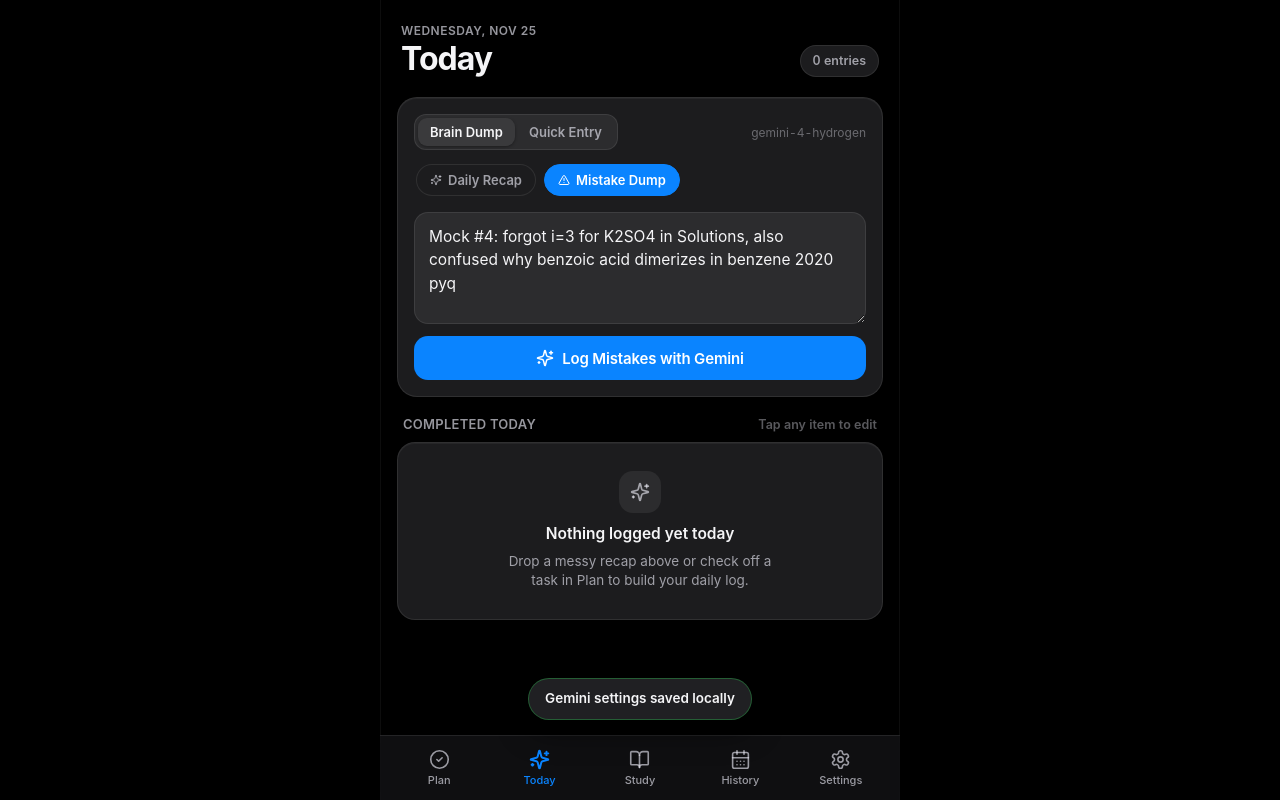
Scenario: Study Hub, NCERT Chapters, PYQs & Doubts end-to-end flows › extracts mistakes from Today Mistake Dump, tracks repeats/filters, and generates per-chapter revision summaries for Mistakes & Doubts
Earlier steps of the test are not shown.
Later steps or results of the test are not shown.
What coordinates should you click on to do the following:
click the button "Log Mistakes with Gemini"
I would click on:
 (640, 358)
Its box is [414,336,866,380].
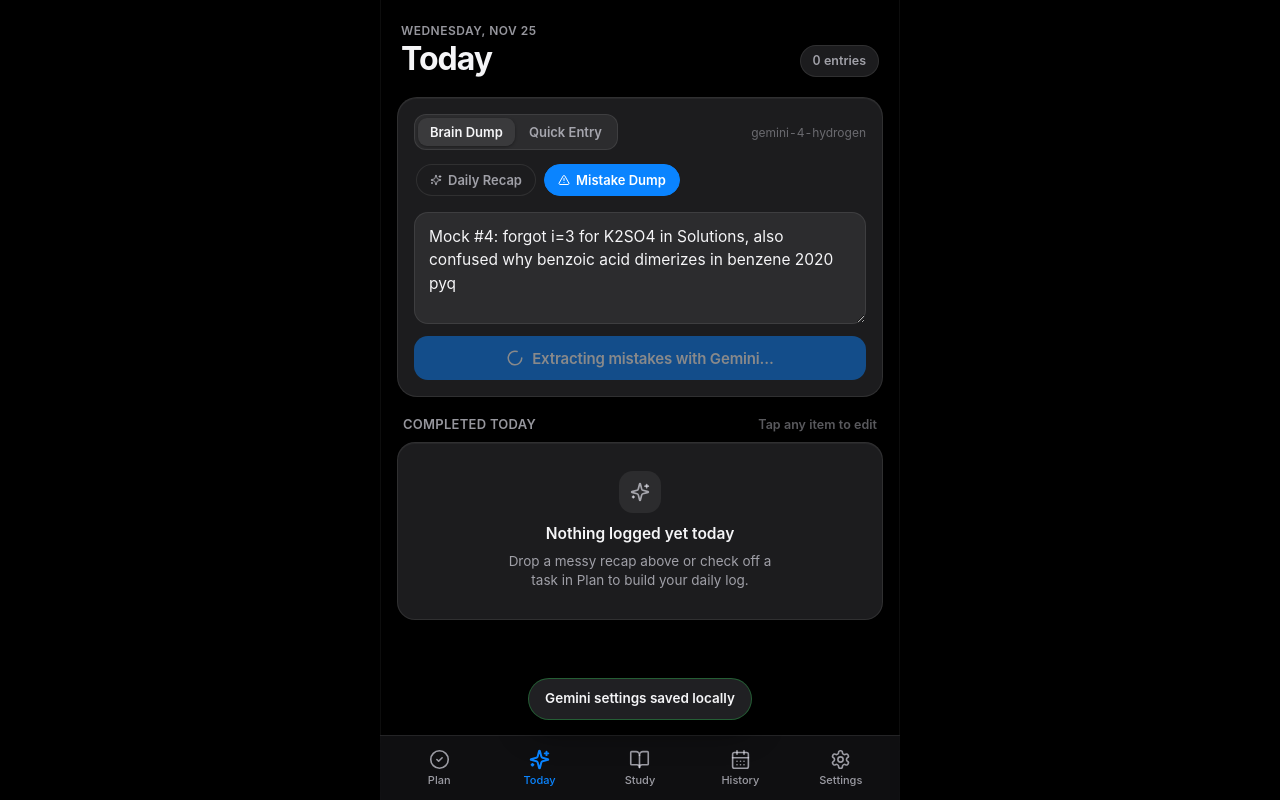
Note: Switch to By Chapter summary view and open Chapter Summary sheet
What coordinates should you click on to do the following:
click the button "Study"
I would click on:
 (640, 768)
Its box is [591,744,689,792].
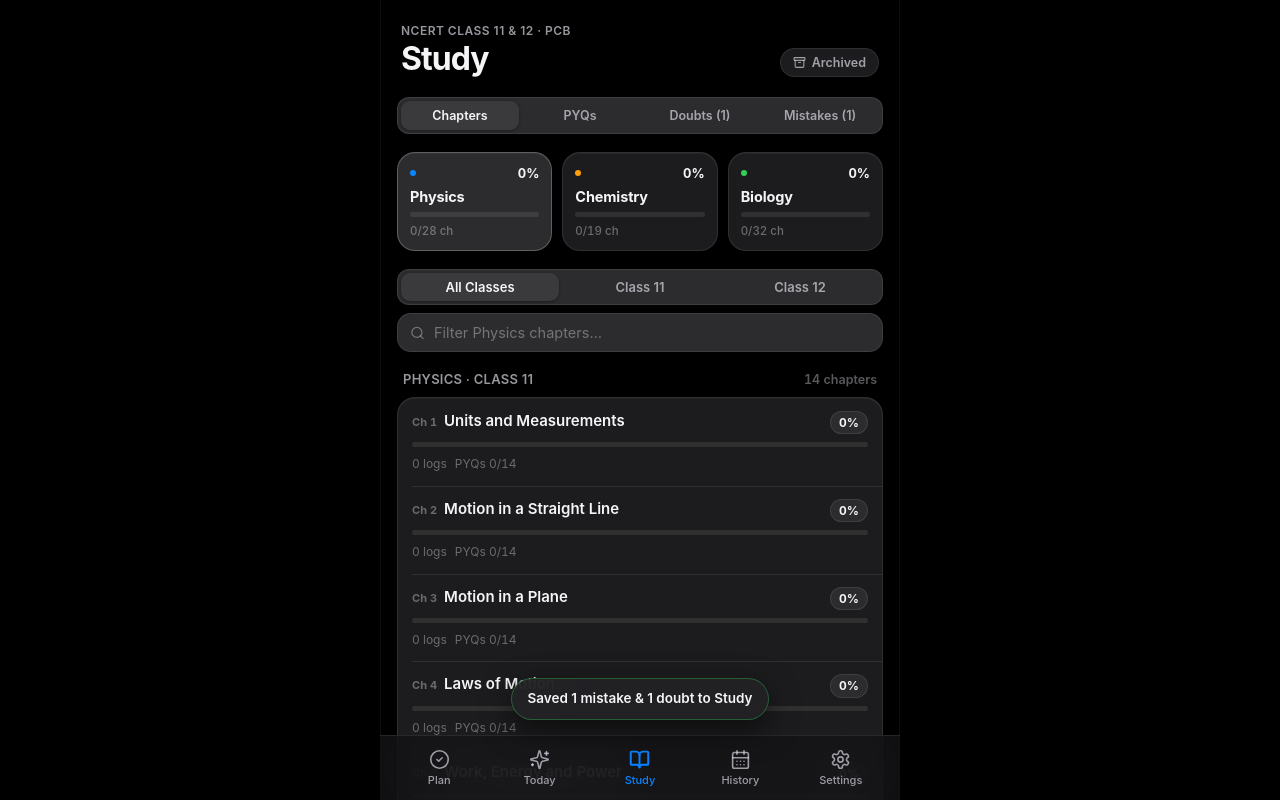
What coordinates should you click on to do the following:
click the tab "Mistakes (1)"
I would click on:
 (820, 116)
Its box is [761,101,879,130].
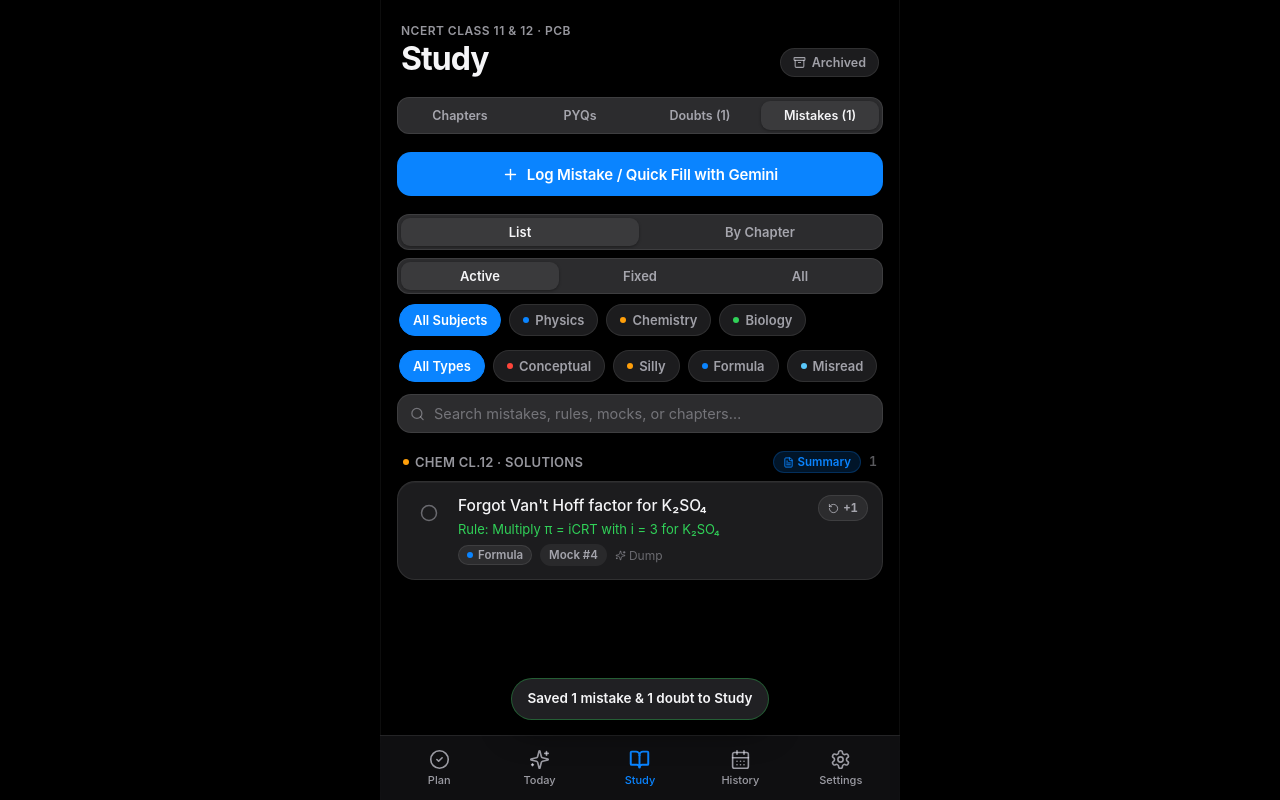
Check: the text "Forgot Van't Hoff factor for K₂SO₄" is shown, box [458,496,707,515]
Check: the text "Mock #4" is shown, box [540,544,607,566]
Note: Generate Gemini Revision Summary for Mistakes
What coordinates should you click on to do the following:
click the button named "Log repeat for \"Forgot Van't Hoff factor for K₂SO₄\""
I would click on:
 (843, 508)
Its box is [818,495,868,521].
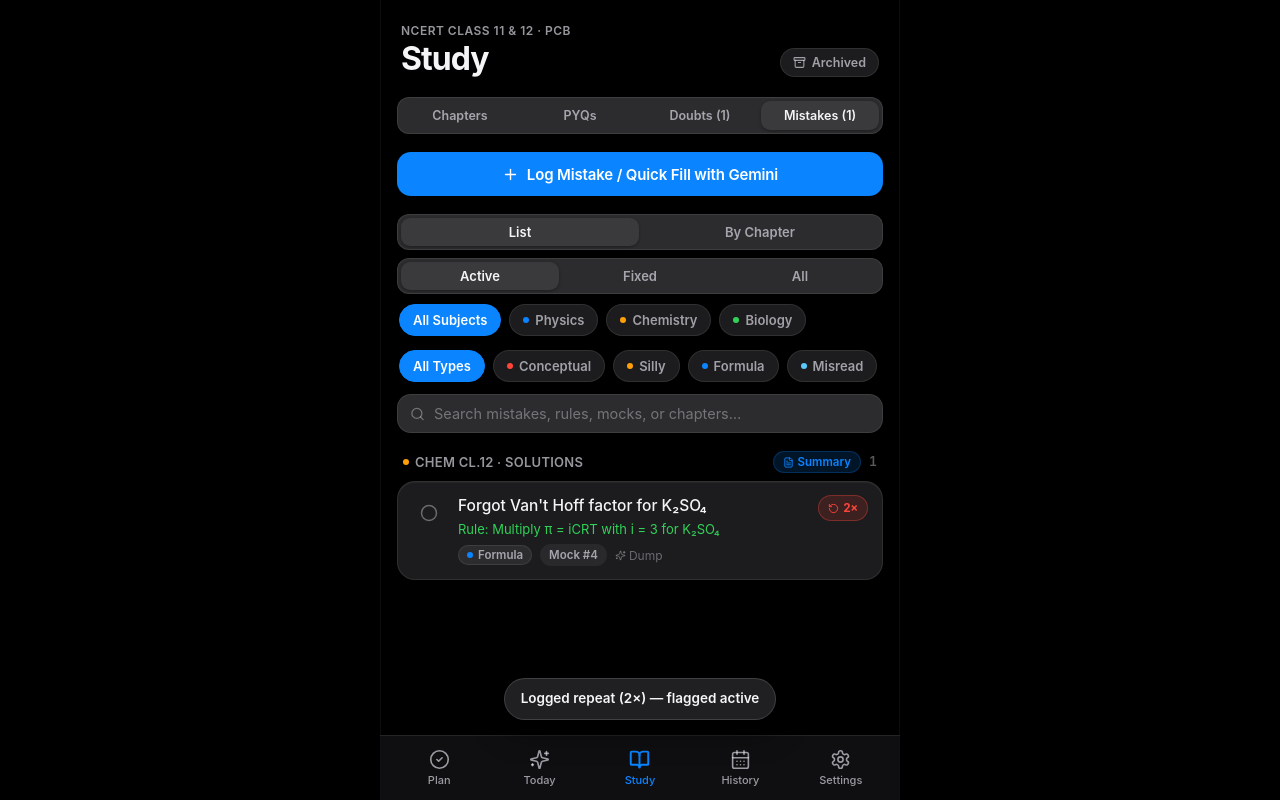
Check: the text "2×" is shown, box [843,501,858,515]
Note: Switch scope inside Chapter Summary Sheet to Doubts and generate Doubts summary
What coordinates should you click on to do the following:
click the tab "By Chapter"
I would click on:
 (760, 232)
Its box is [641,218,879,246].
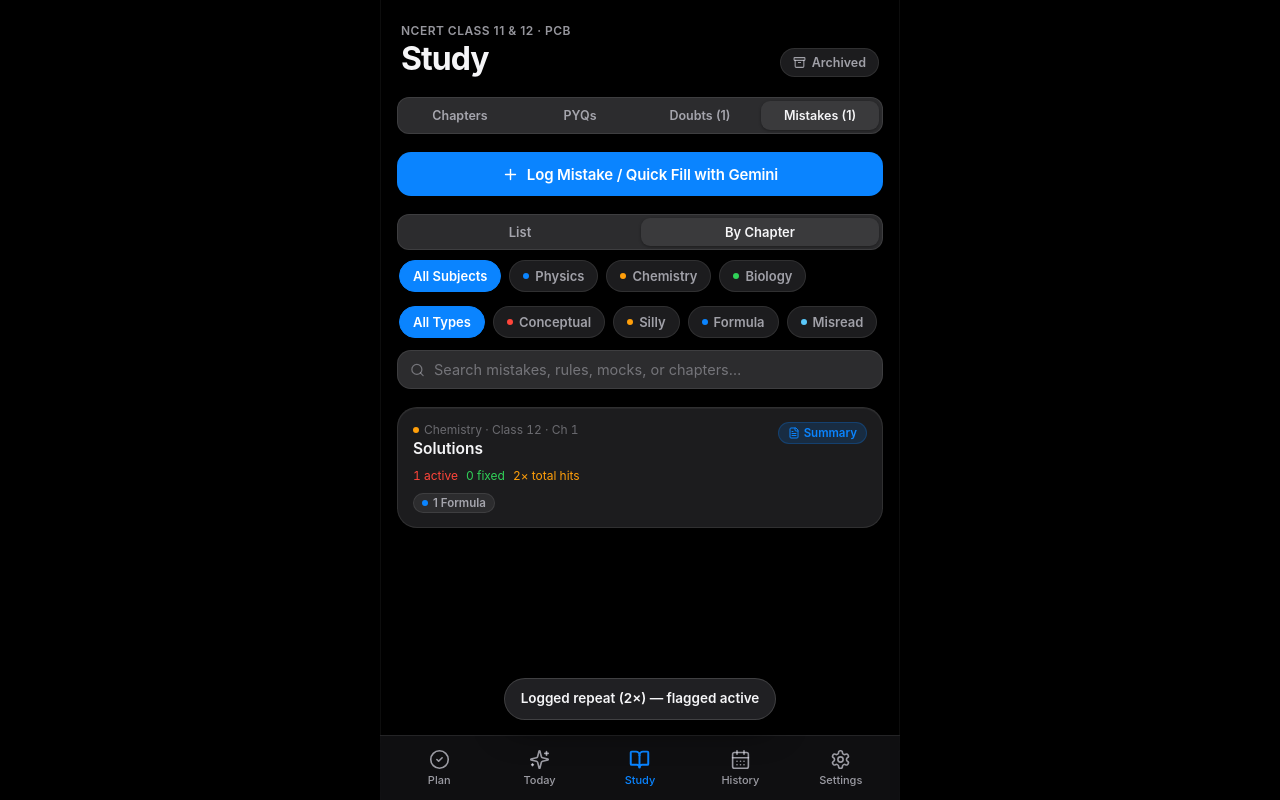
Check: the text "Solutions" is shown, box [413,439,483,458]
Check: the text "2× total hits" is shown, box [513,468,580,483]
What coordinates should you click on to do the following:
click the button "Solutions"
I would click on:
 (453, 430)
Its box is [397,407,883,528].
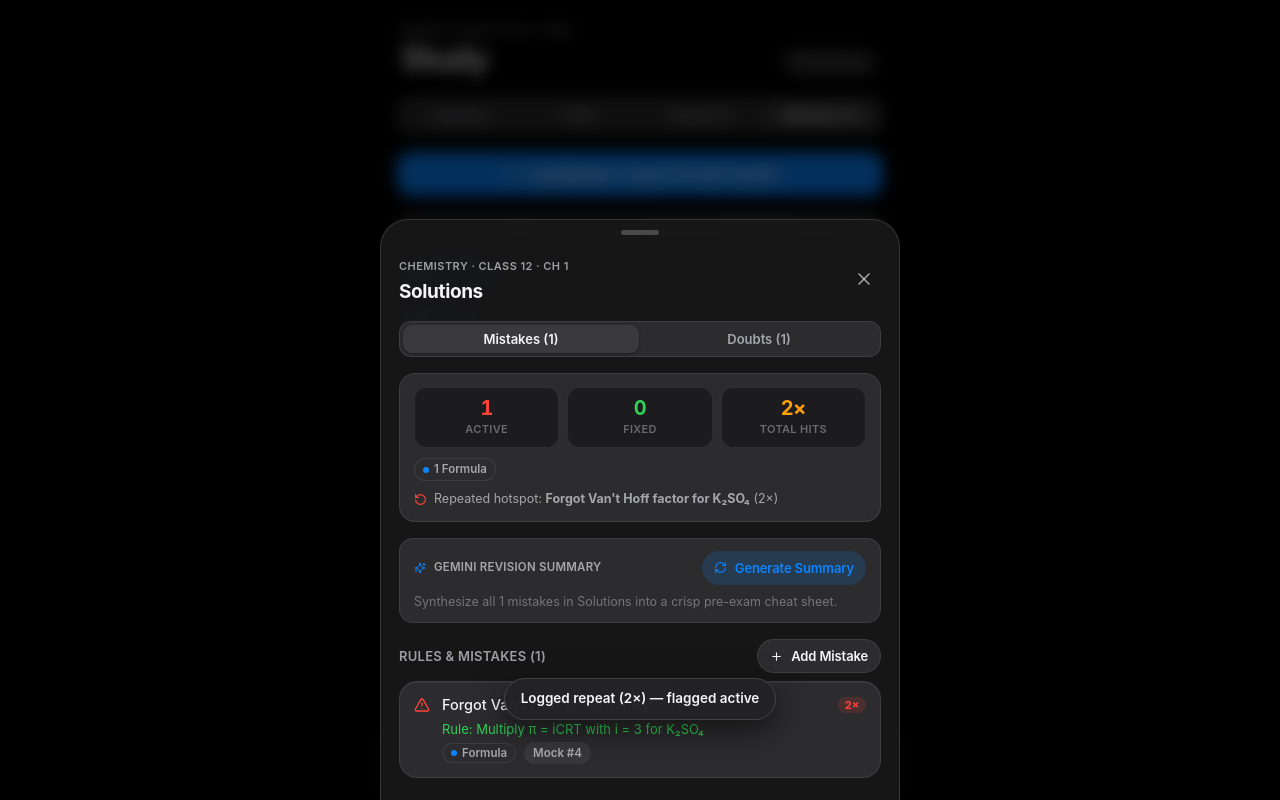
Check: the text "Repeated hotspot: Forgot Van't Hoff factor for K₂SO₄ (2×)" is shown, box [434,491,778,508]
